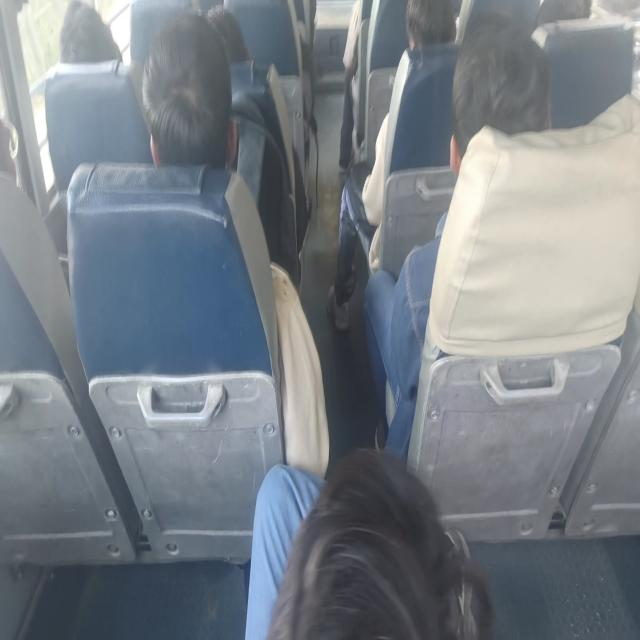person: (274, 459, 482, 640), (452, 28, 544, 174), (152, 29, 238, 175), (189, 5, 257, 74), (0, 100, 43, 200), (63, 0, 120, 68), (397, 0, 456, 53), (538, 0, 592, 31)
